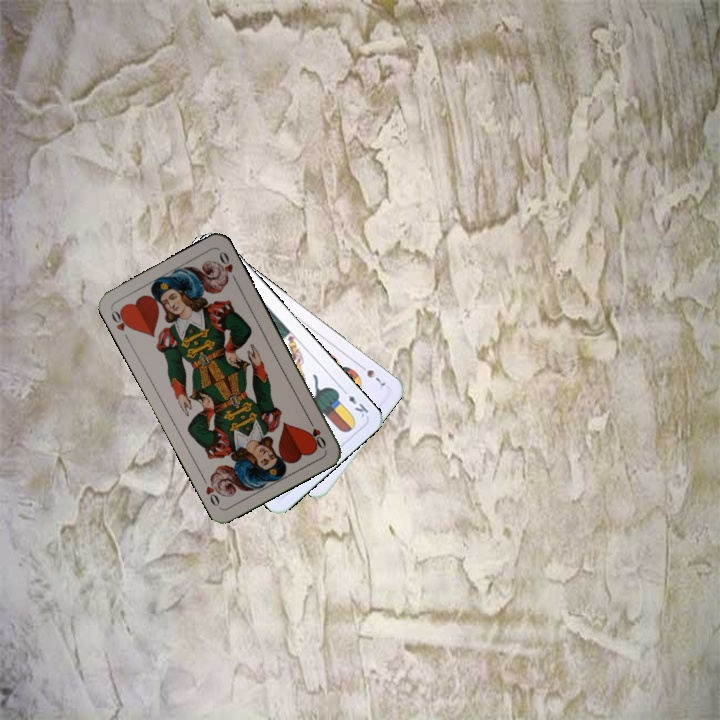EK: (338, 385, 371, 420)
HO: (107, 304, 135, 343), (304, 414, 329, 451)
S7: (355, 360, 388, 389)
